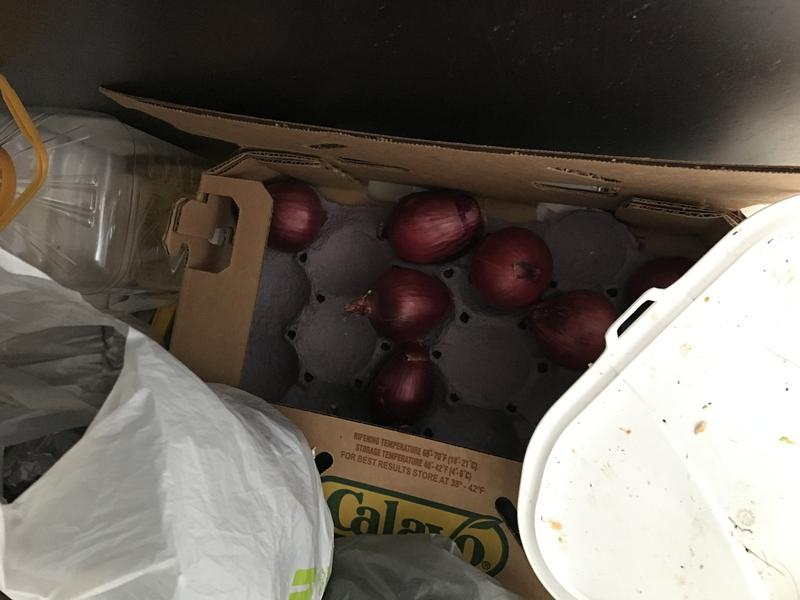purple_onion: (346, 274, 461, 350), (382, 187, 480, 263), (532, 286, 618, 368), (463, 231, 551, 309), (369, 348, 448, 431), (261, 174, 334, 257)
